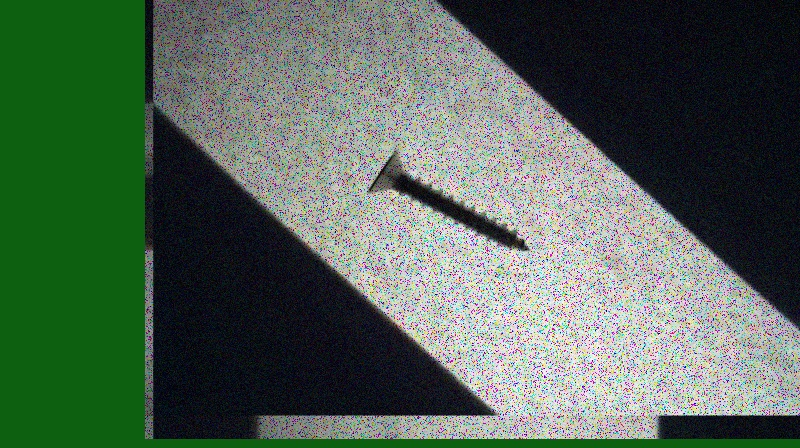S001: (359, 146, 534, 257)
